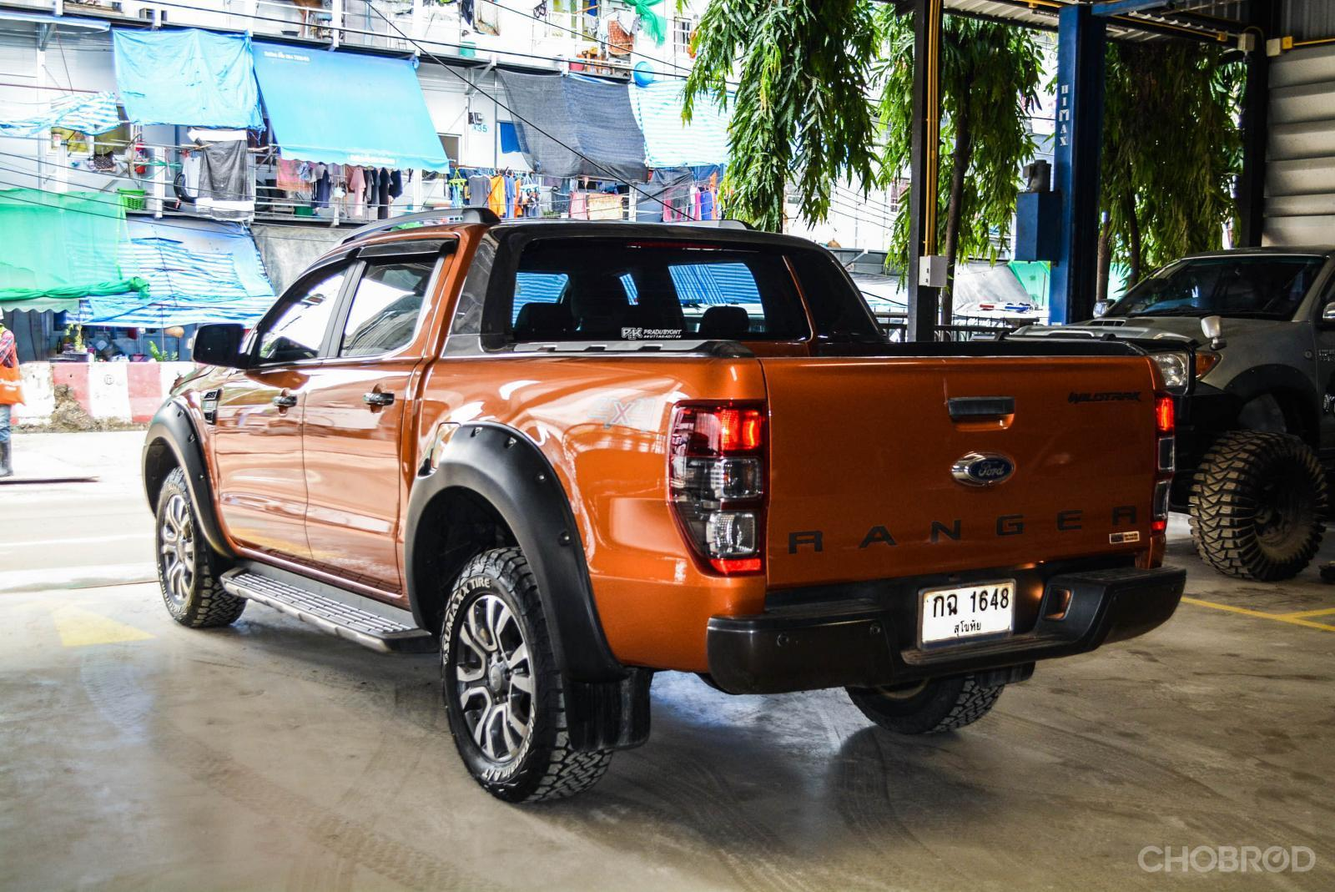license-plate: (916, 581, 1019, 643)
